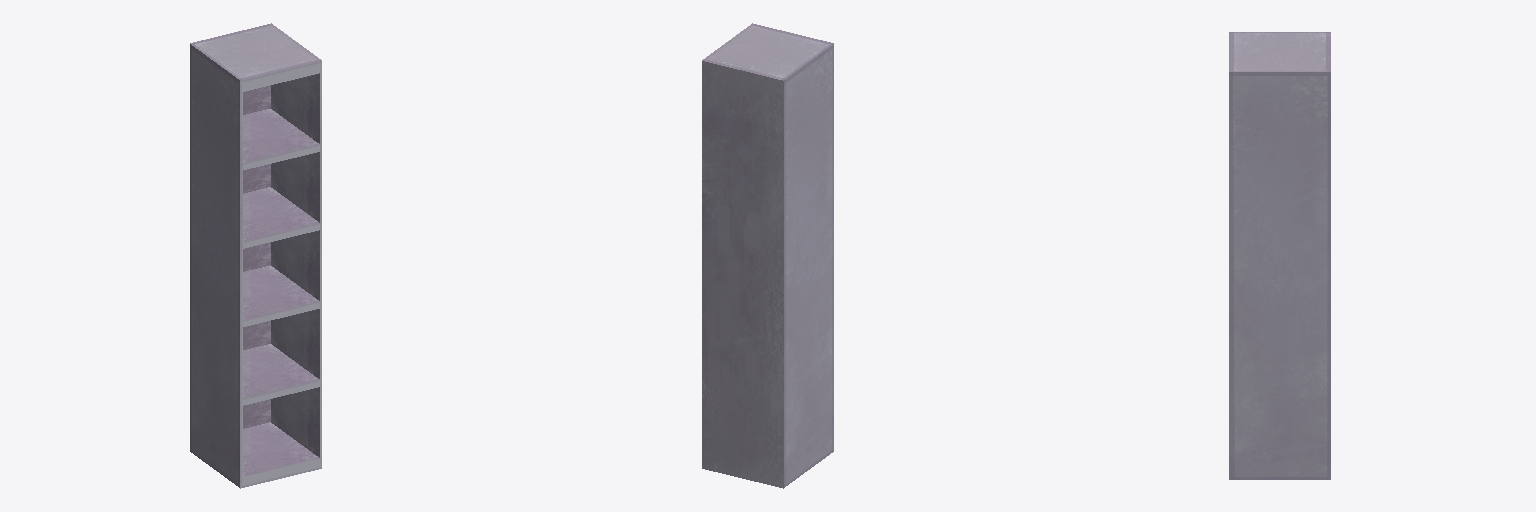
3 renders of one model, left to right at view 1: azimuth 30°, elevation 25°; view 2: azimuth 150°, elevation 25°; view 3: azimuth 270°, elevation 25°, orthographic.
Visible parts, largest first — view 1: ShelfSmall; view 2: ShelfSmall; view 3: ShelfSmall.
Boxes of the visible parts, x1=… form: ShelfSmall: x1=190, y1=23, x2=321, y2=488; ShelfSmall: x1=702, y1=23, x2=833, y2=488; ShelfSmall: x1=1229, y1=32, x2=1330, y2=479.
Size of the model in its own units: 0.7546 by 3.59 by 0.8128.
1 materials, 1 textured.